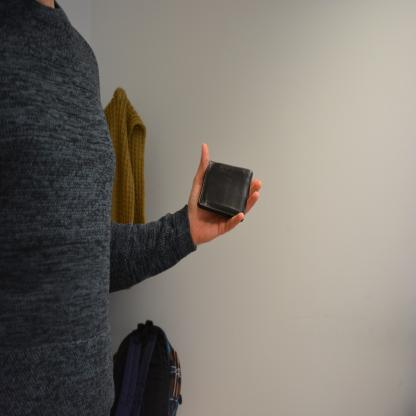monedero: (196, 160, 253, 222)
